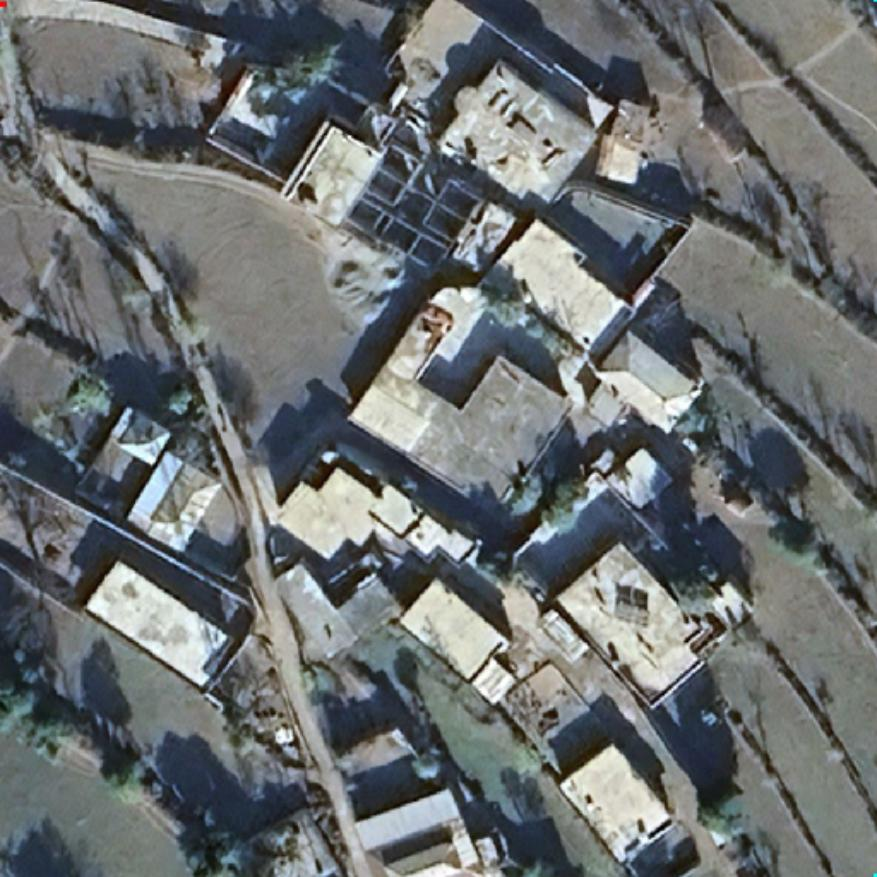Solarpanel: (608, 597, 650, 628)
